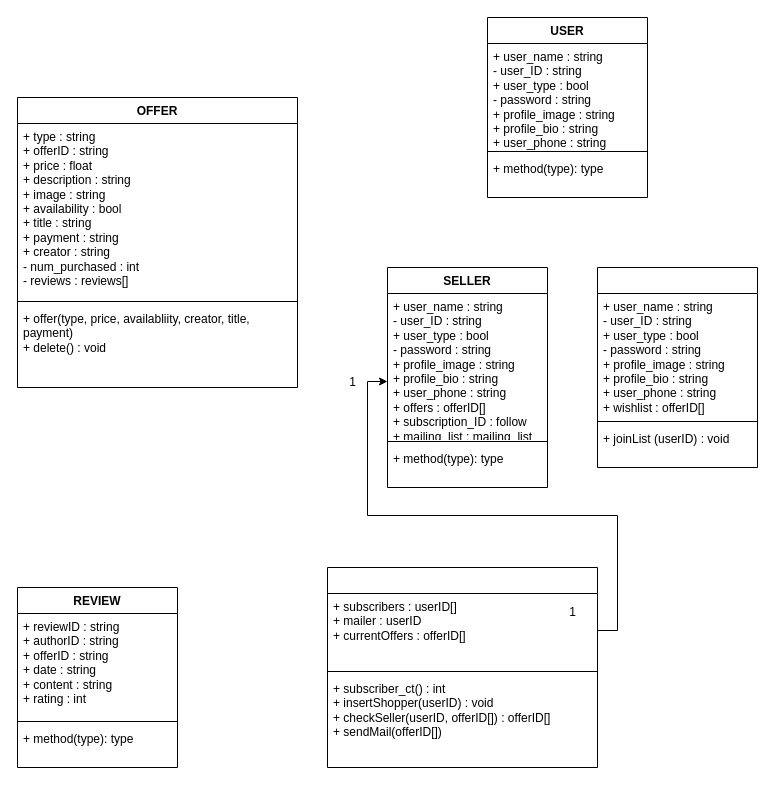
Some shapes in this 775 by 788 pixel diagram are drawn without their labels. The shapes that lost their labels are listed below. From the top down, each one's box as (x1, y1, x2, y2) in pixels, then its label:
(596, 266, 758, 468): SHOPPER
(326, 566, 598, 768): MAILING_LIST
